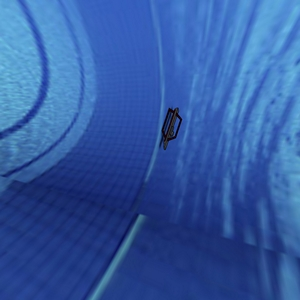submarine: (141, 84, 192, 154)
